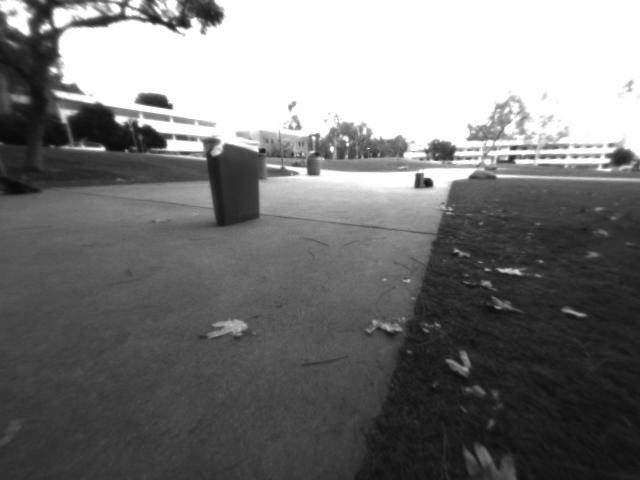trashcan_open: (200, 135, 264, 228)
